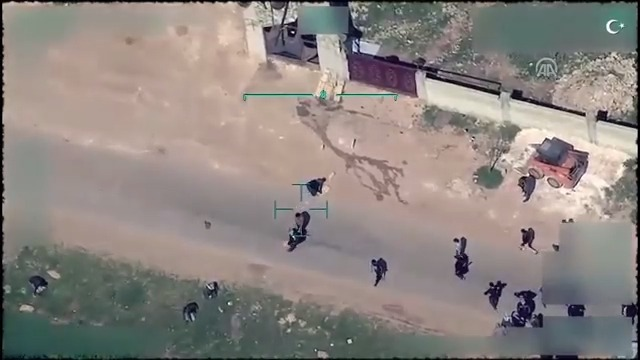arac: (516, 137, 593, 191)
insan: (365, 250, 383, 290), (305, 172, 329, 197), (483, 278, 500, 312), (515, 228, 535, 255), (447, 235, 464, 258)
